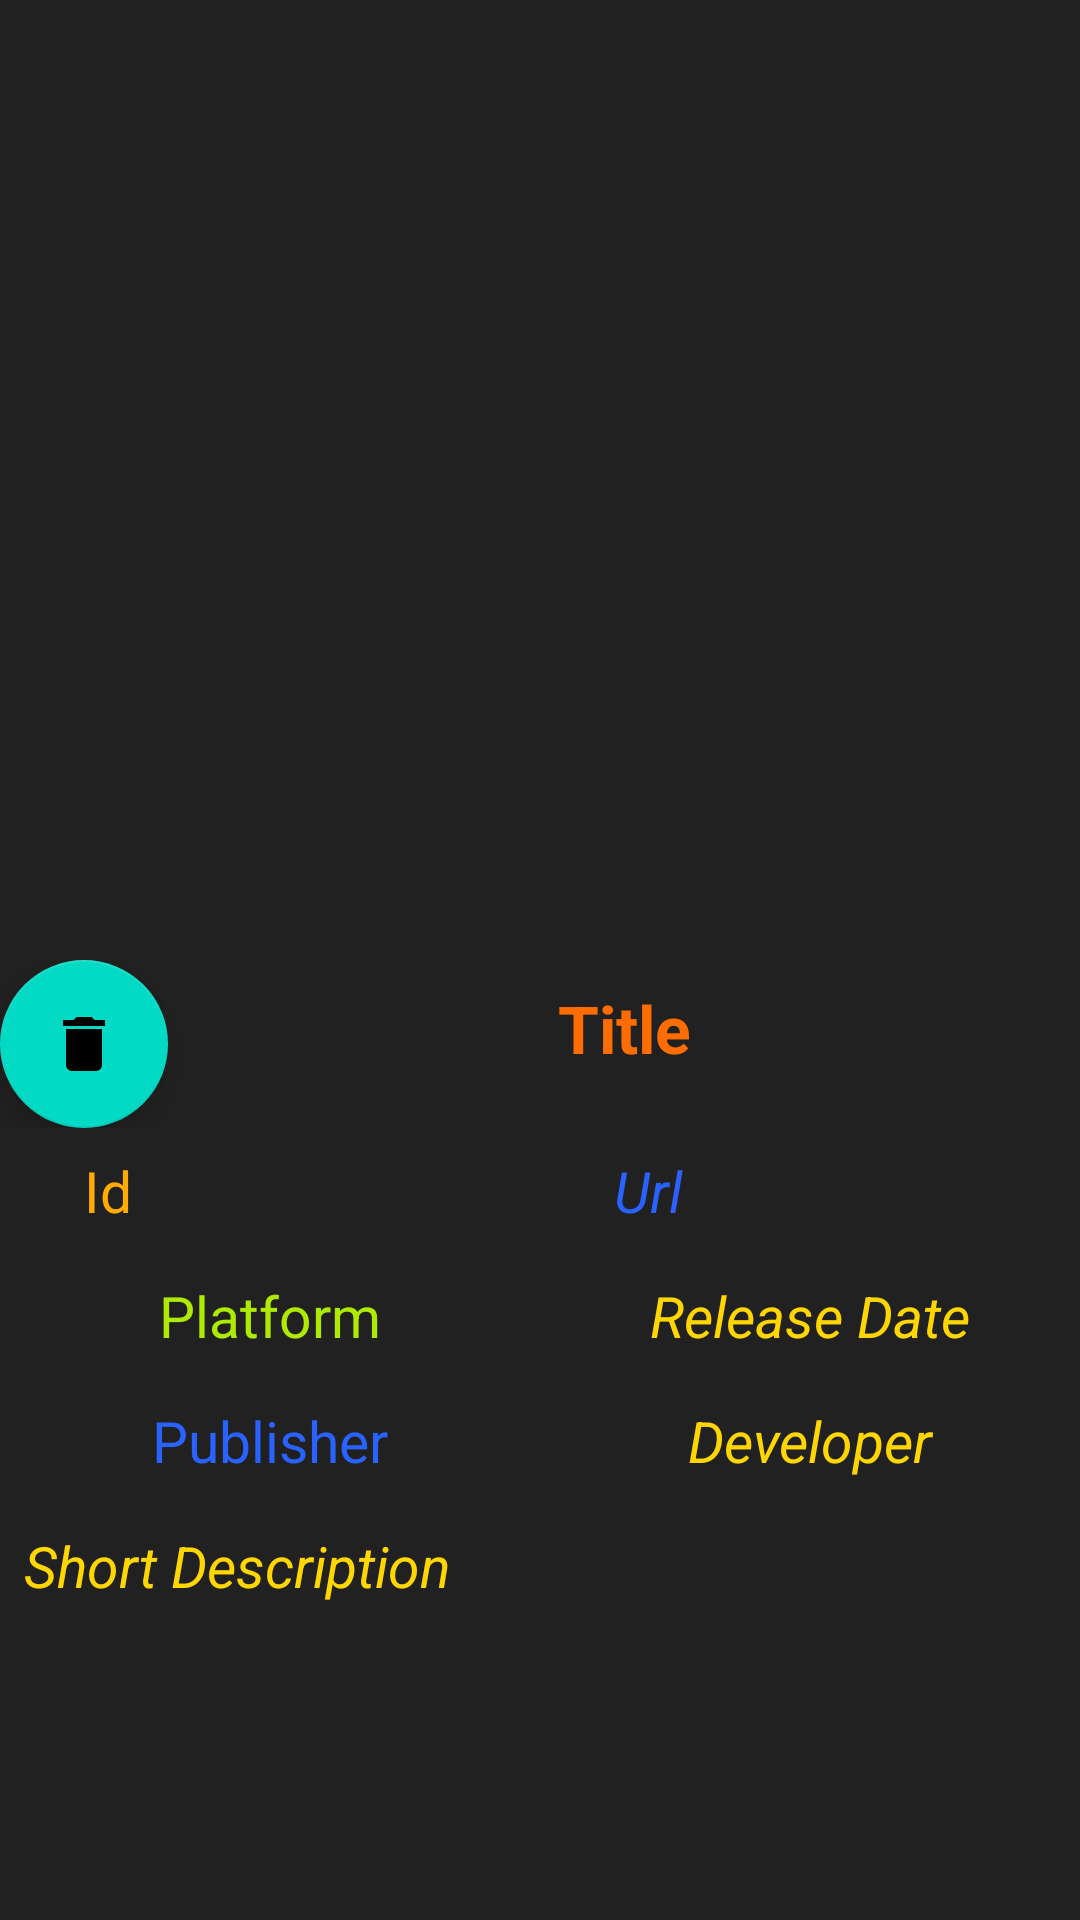

Named icons in this screenshot (1080w x 1920h) and their centers, point (x, y):
floatingbutton: point (84, 1044)
